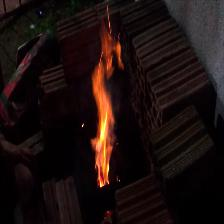fire: (82, 19, 135, 195)
